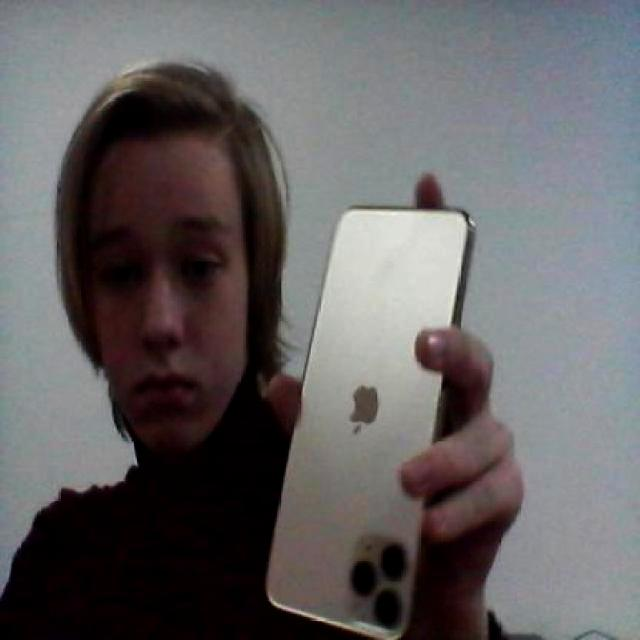lens: (348, 538, 416, 629)
phone: (260, 204, 483, 635)
